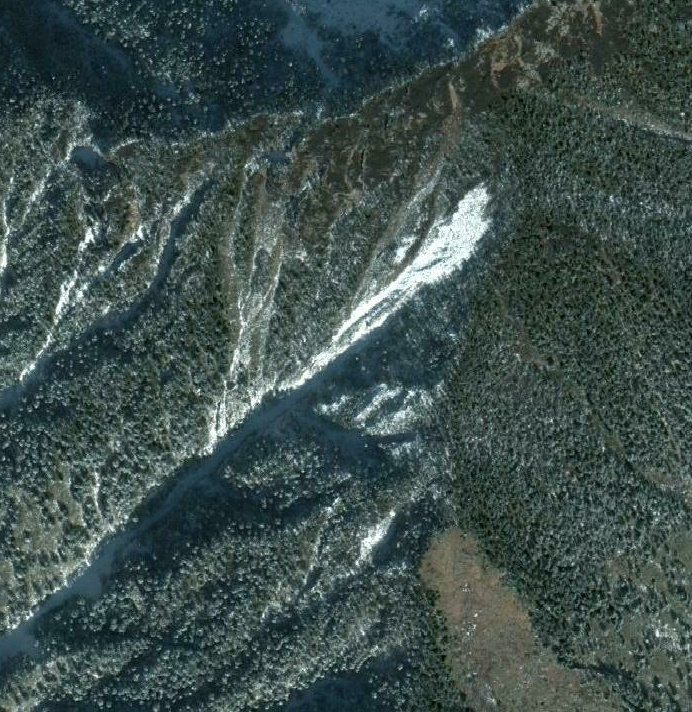slope: (282, 180, 503, 448)
